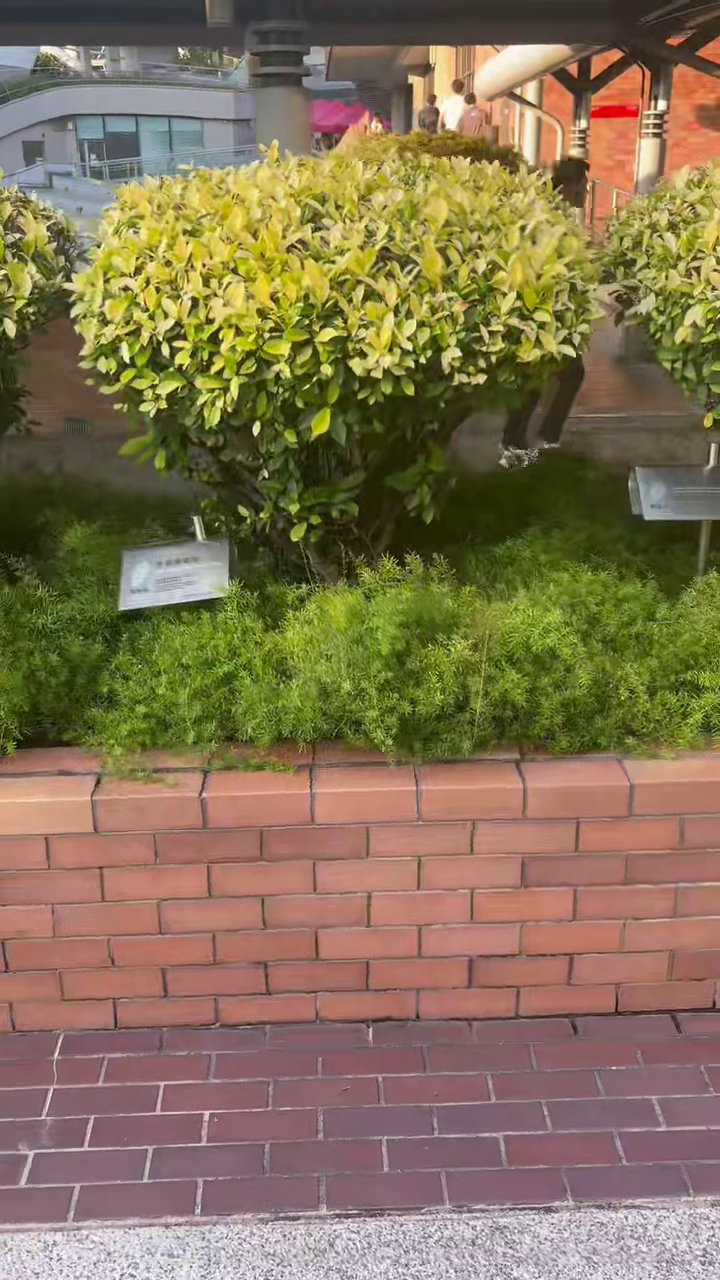Golden-leaves Fig: (71, 146, 596, 576)
